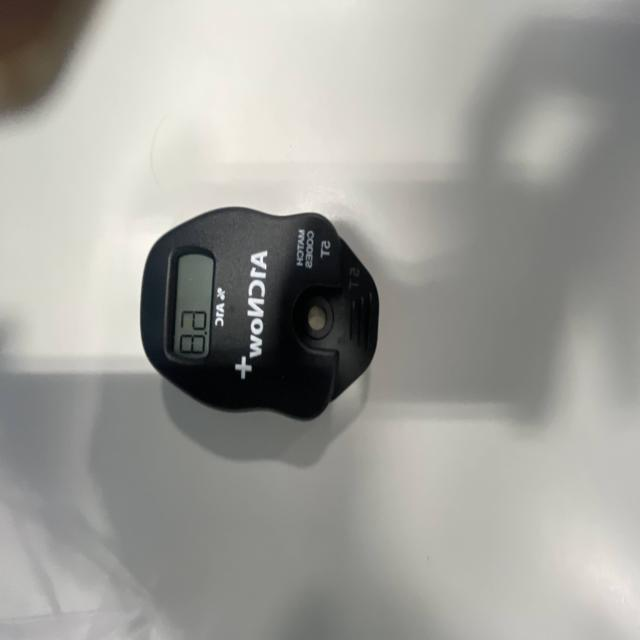hba1c: (137, 207, 382, 465)
